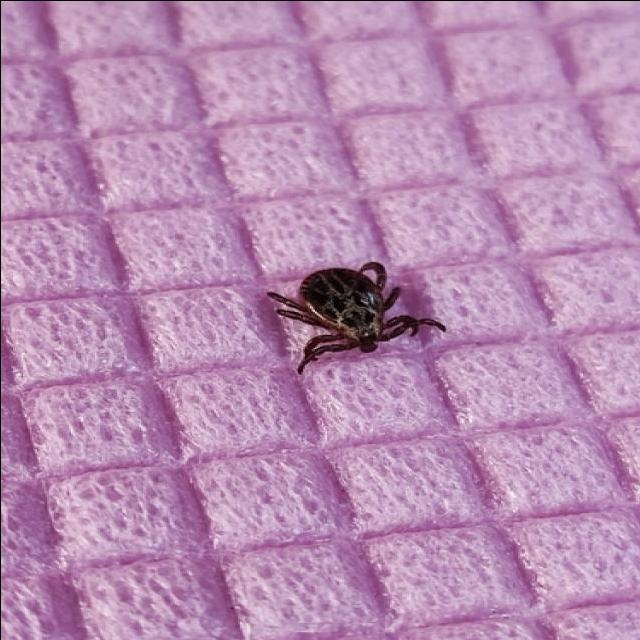Dermacentor Reticulatus-M: (266, 261, 445, 374)
